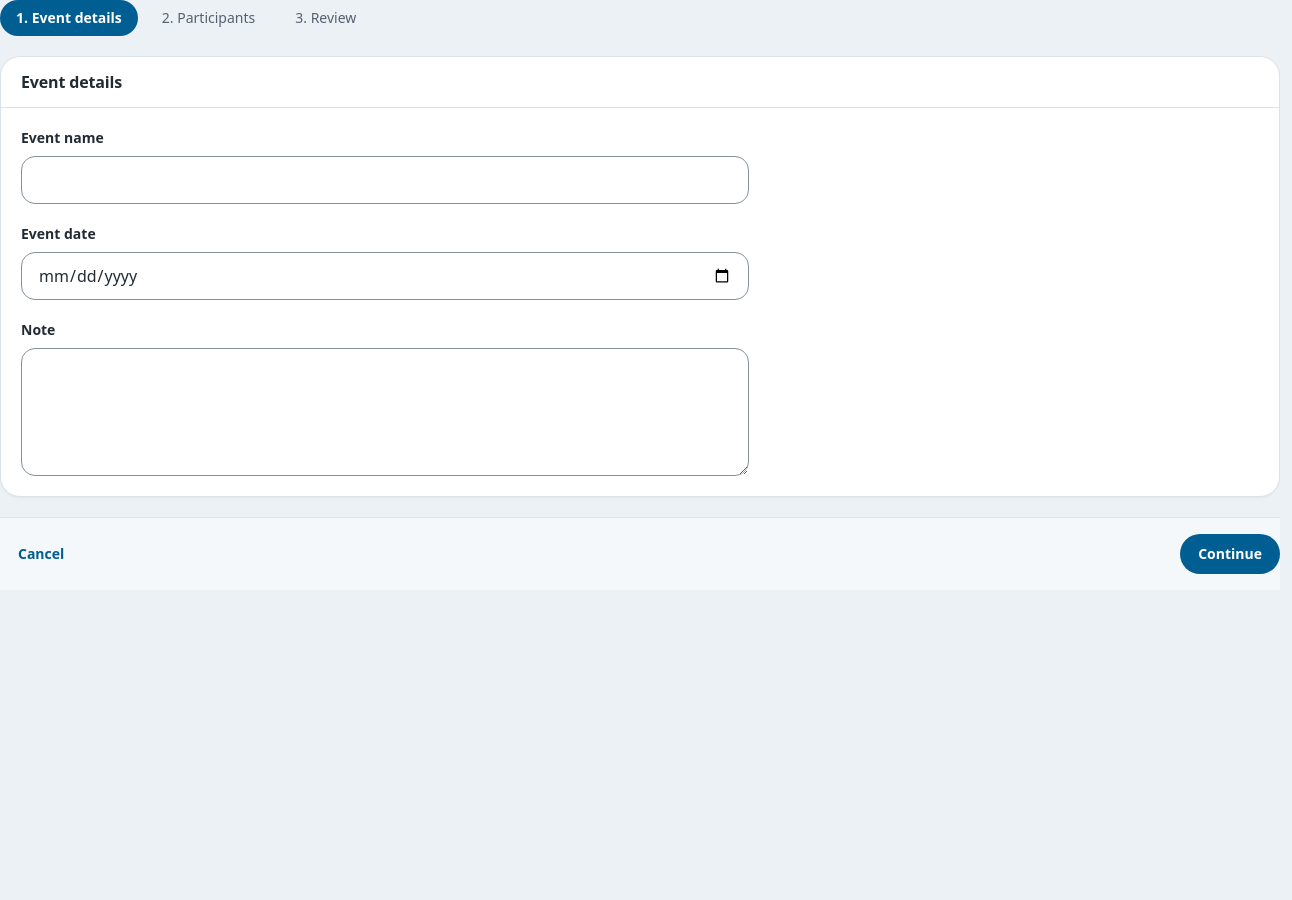
event-first participant proposal form › adds a pasted list at once, names who was not found and leaves them in the field to fix
The width and height of the screenshot is (1292, 900).
Step 1. Type "Book drive" into the field labelled "Event name" → (385,180), box [21,156,749,204]
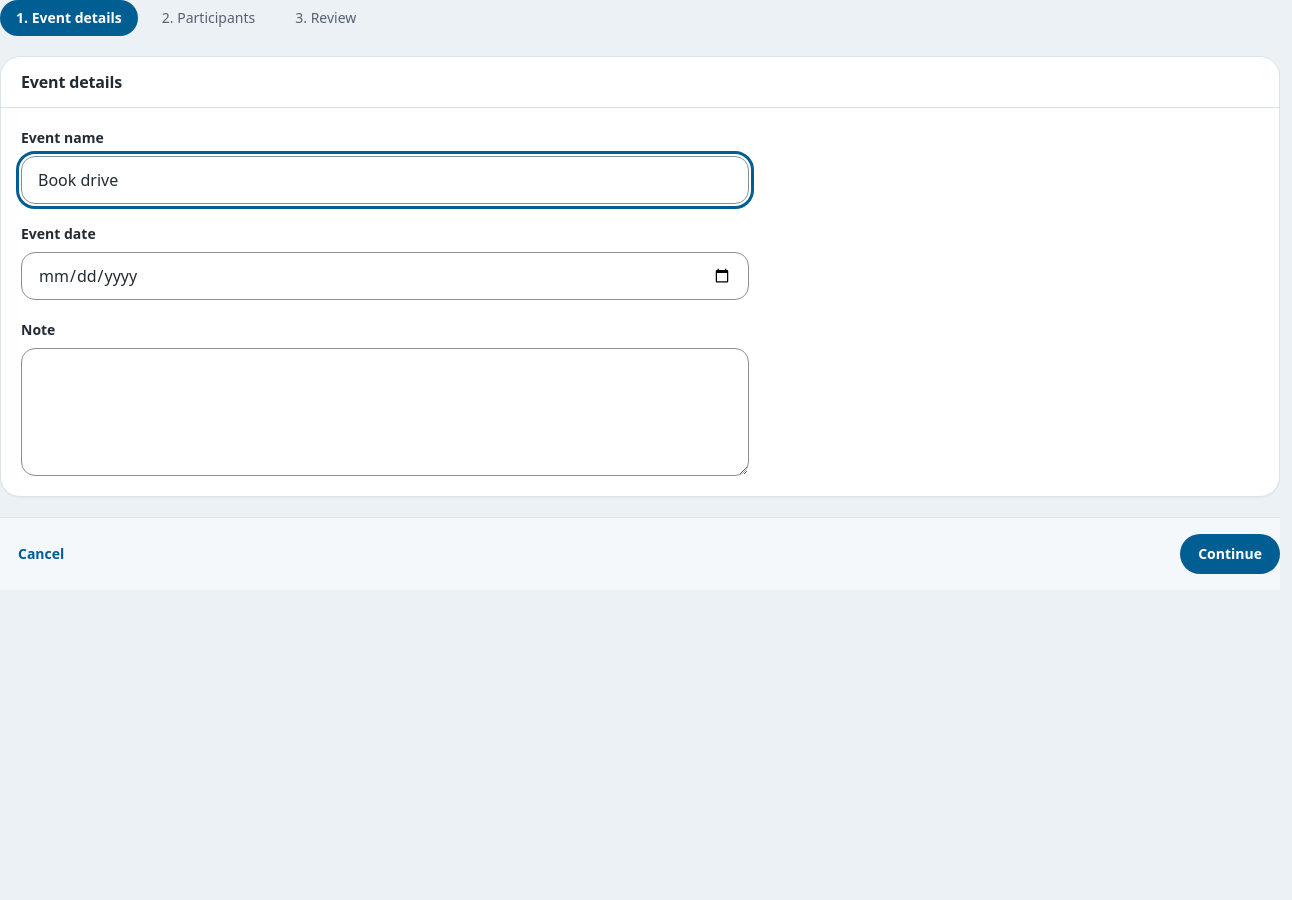
Step 2. Type "2025-09-20" into the date field labelled "Event date" → (385,276), box [21,252,749,300]
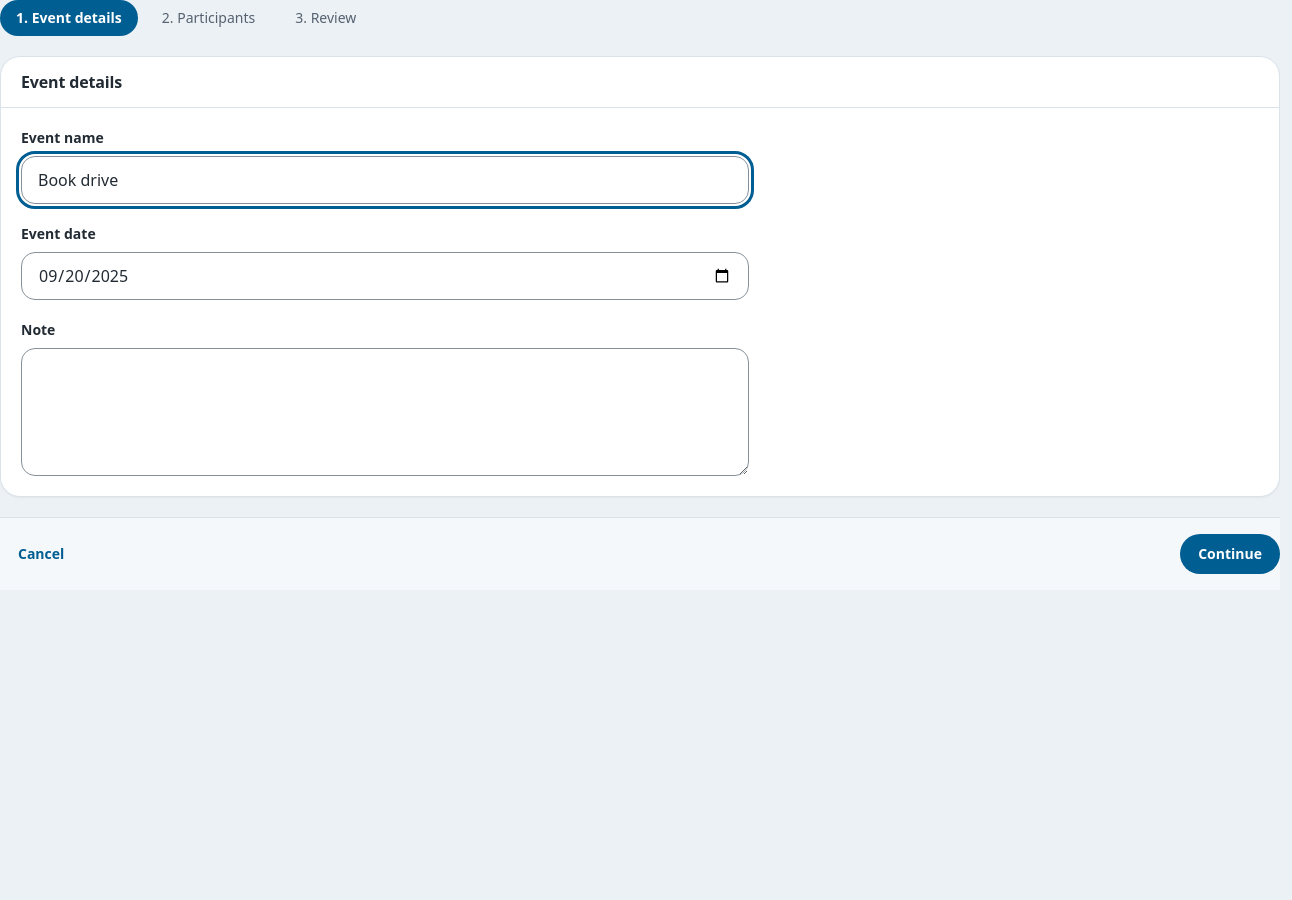
Step 3. Click the button "Continue" → (1230,554), box [1180,534,1280,574]
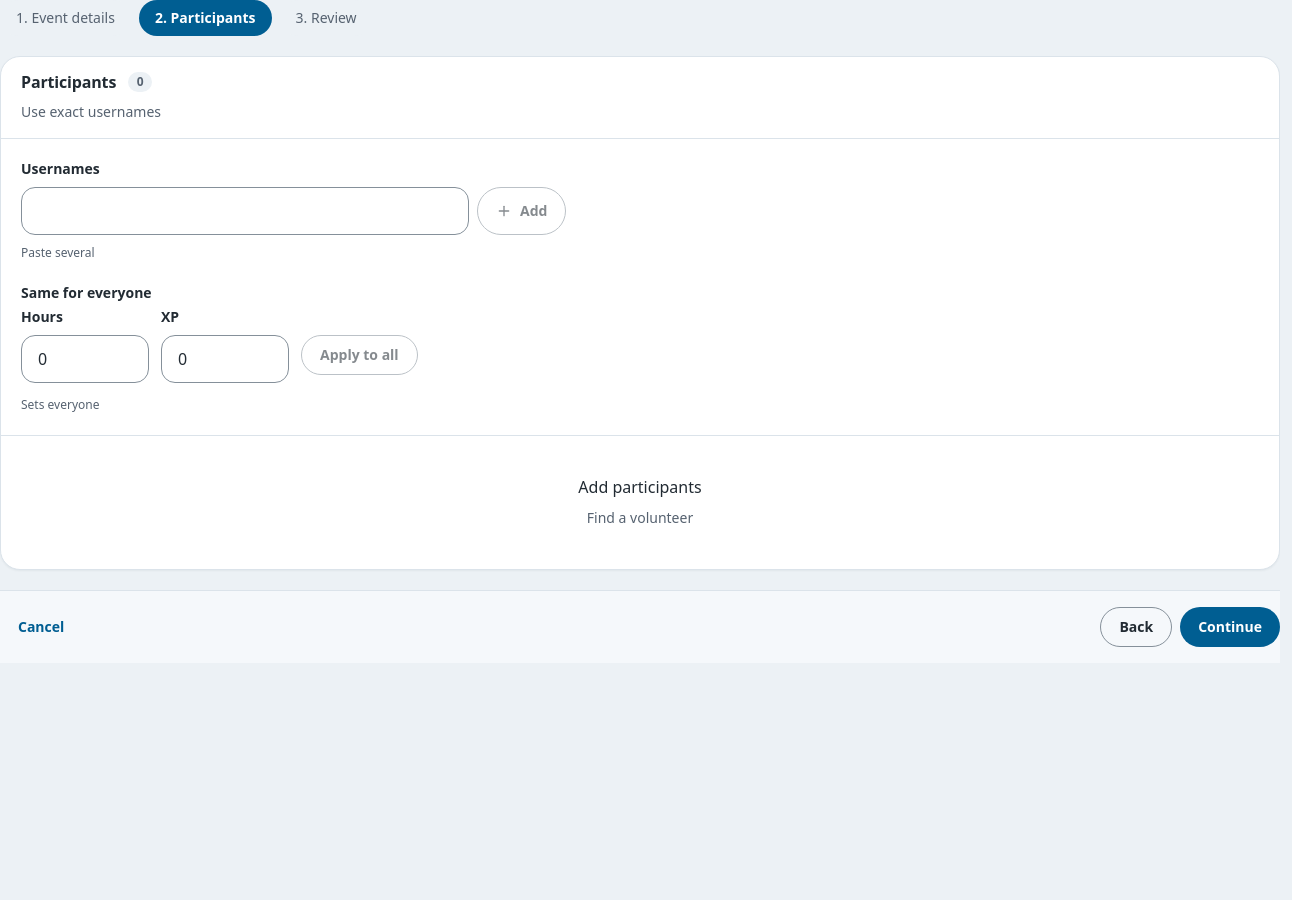
Step 4. Type "aziza, @bobur nobody" into the field labelled "Usernames" → (245,211), box [21,187,469,235]
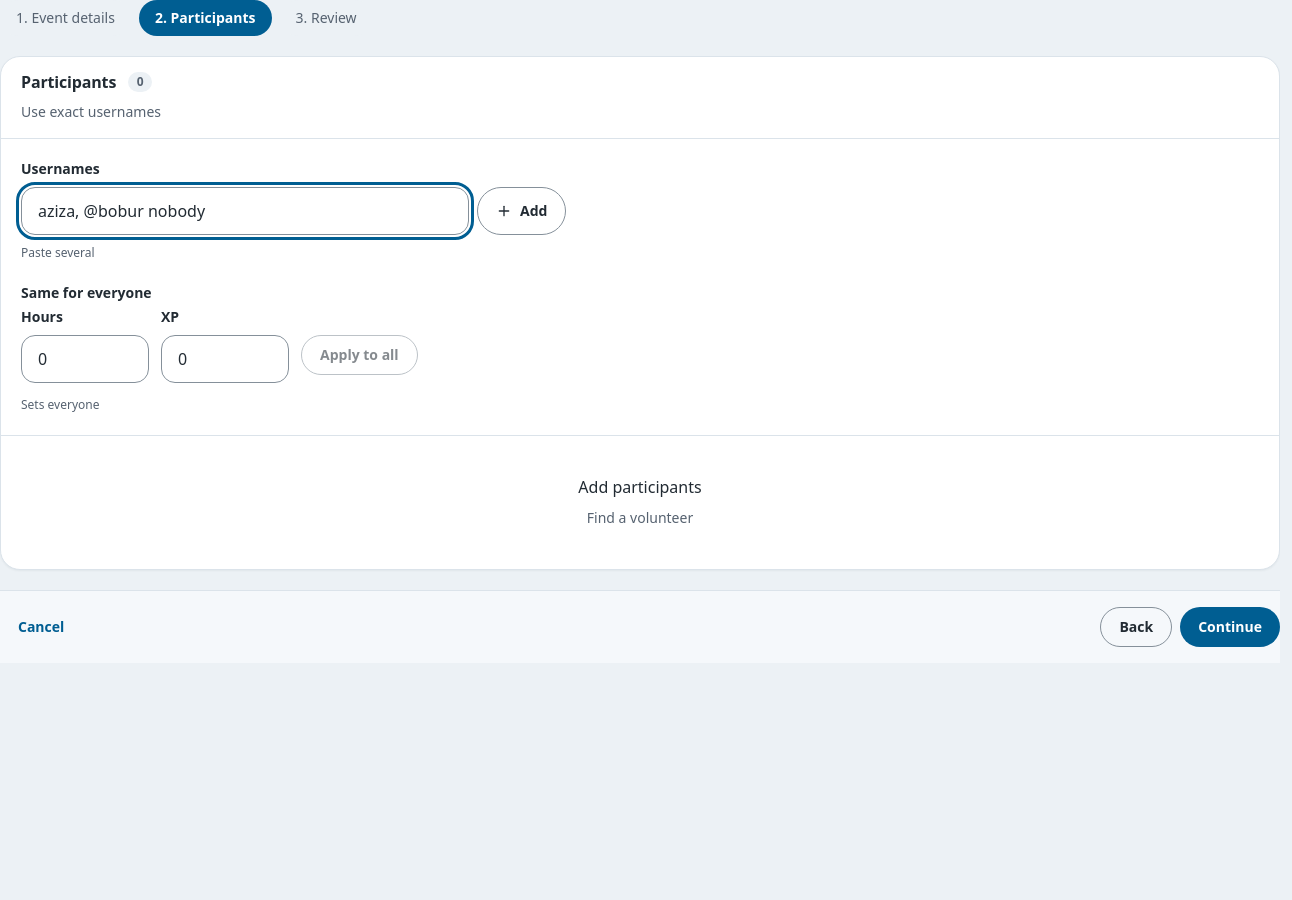
Step 5. Click the button "Add" → (522,211), box [477,187,566,235]
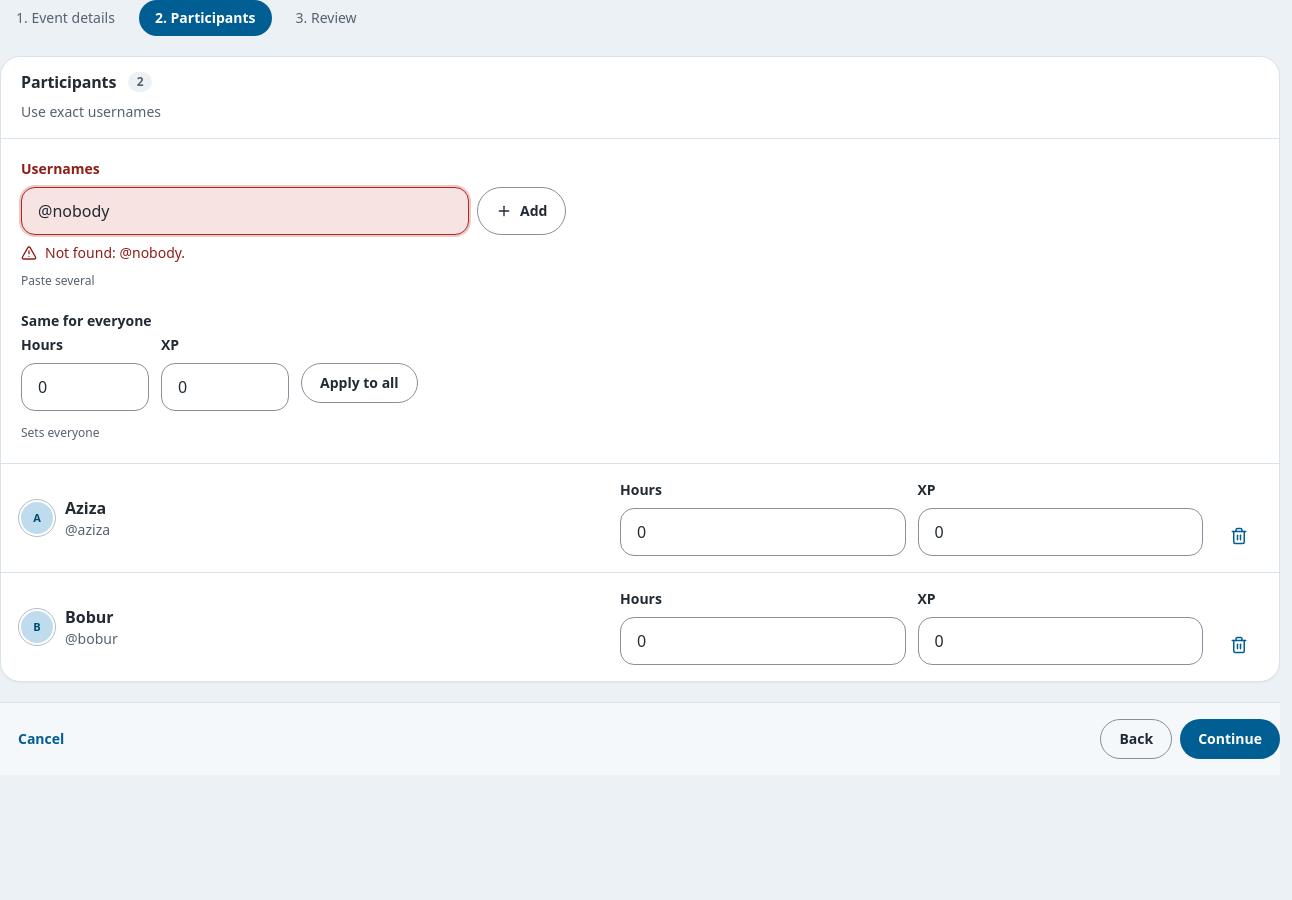
Now the text "Bobur" is shown, box [65,605,118,629]
Now the text "Aziza" is shown, box [65,496,110,520]
Now the message reads "Not found: @nobody.", box [45,243,185,262]
